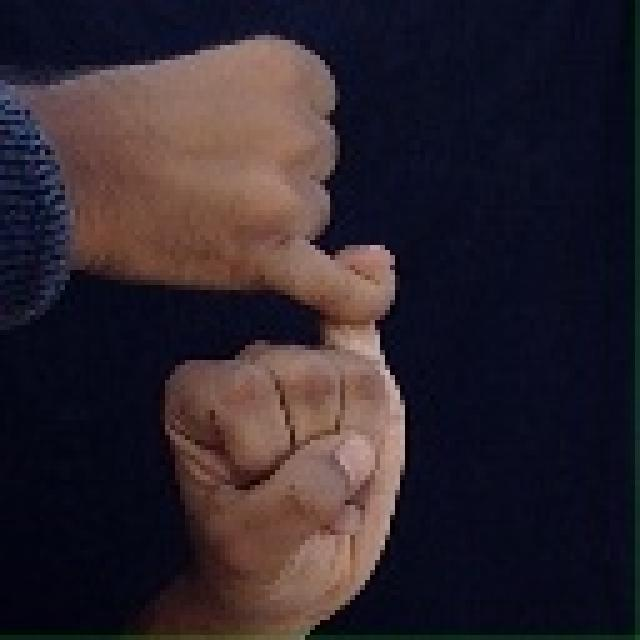Alphabet-S: (0, 29, 420, 638)
